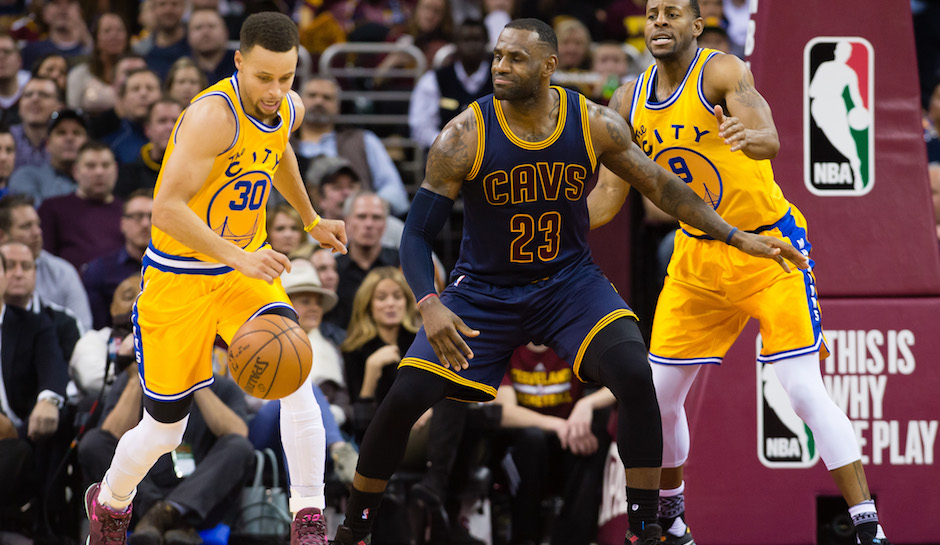basketball: (224, 311, 316, 402)
basketball player: (614, 5, 885, 545), (75, 13, 349, 545), (405, 18, 646, 544)
